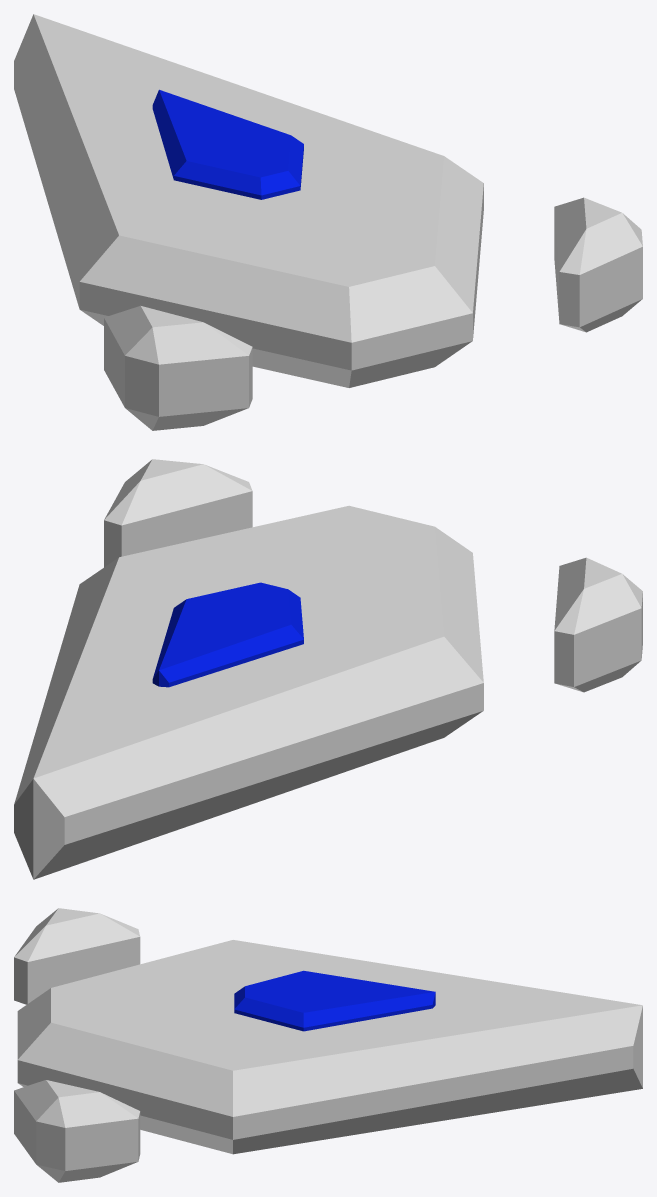
Rendered from ship.fbx.
3 views of the same model, one above another, from view 1: azimuth 30°, elevation 25°; view 2: azimuth 150°, elevation 25°; view 3: azimuth 270°, elevation 25° (orthographic). The views are drawn at different scales.
Parts seen in each view (by area): view 1: ship; view 2: ship; view 3: ship.
Part boxes in pixels (bbox=[...]): ship: bbox=[14, 14, 642, 430]; ship: bbox=[14, 459, 642, 879]; ship: bbox=[14, 908, 642, 1182].
Bounding box in the file's own units: 160 × 34.77 × 204.
